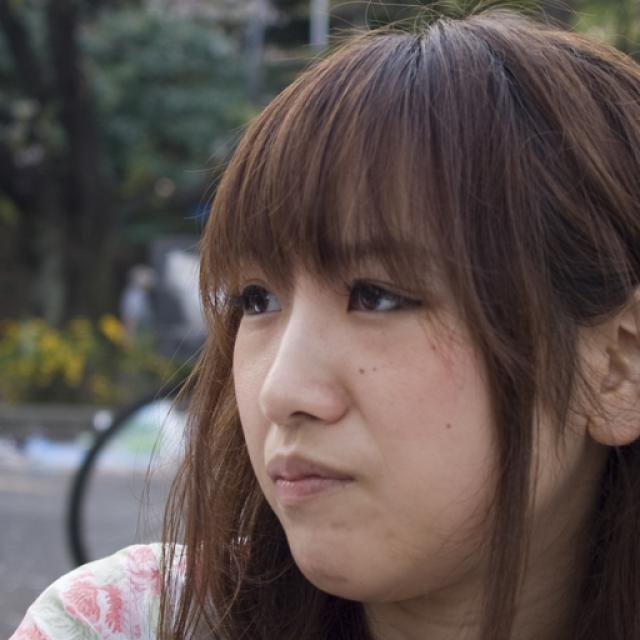sad: (230, 134, 511, 594)
